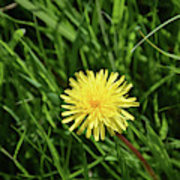dandelion: (62, 68, 131, 138)
